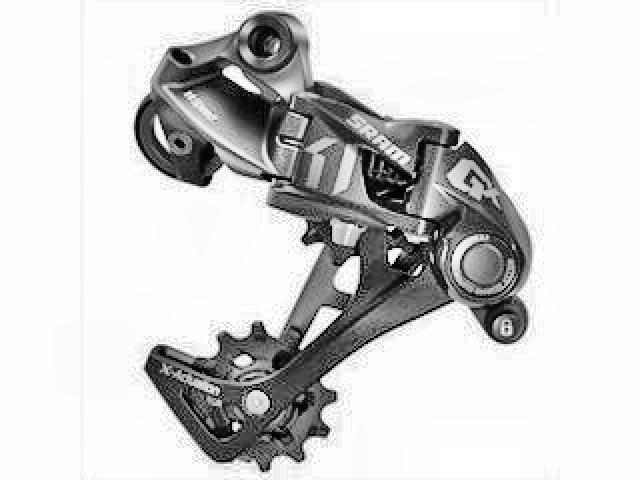rear_derailleur: (130, 10, 532, 474)
